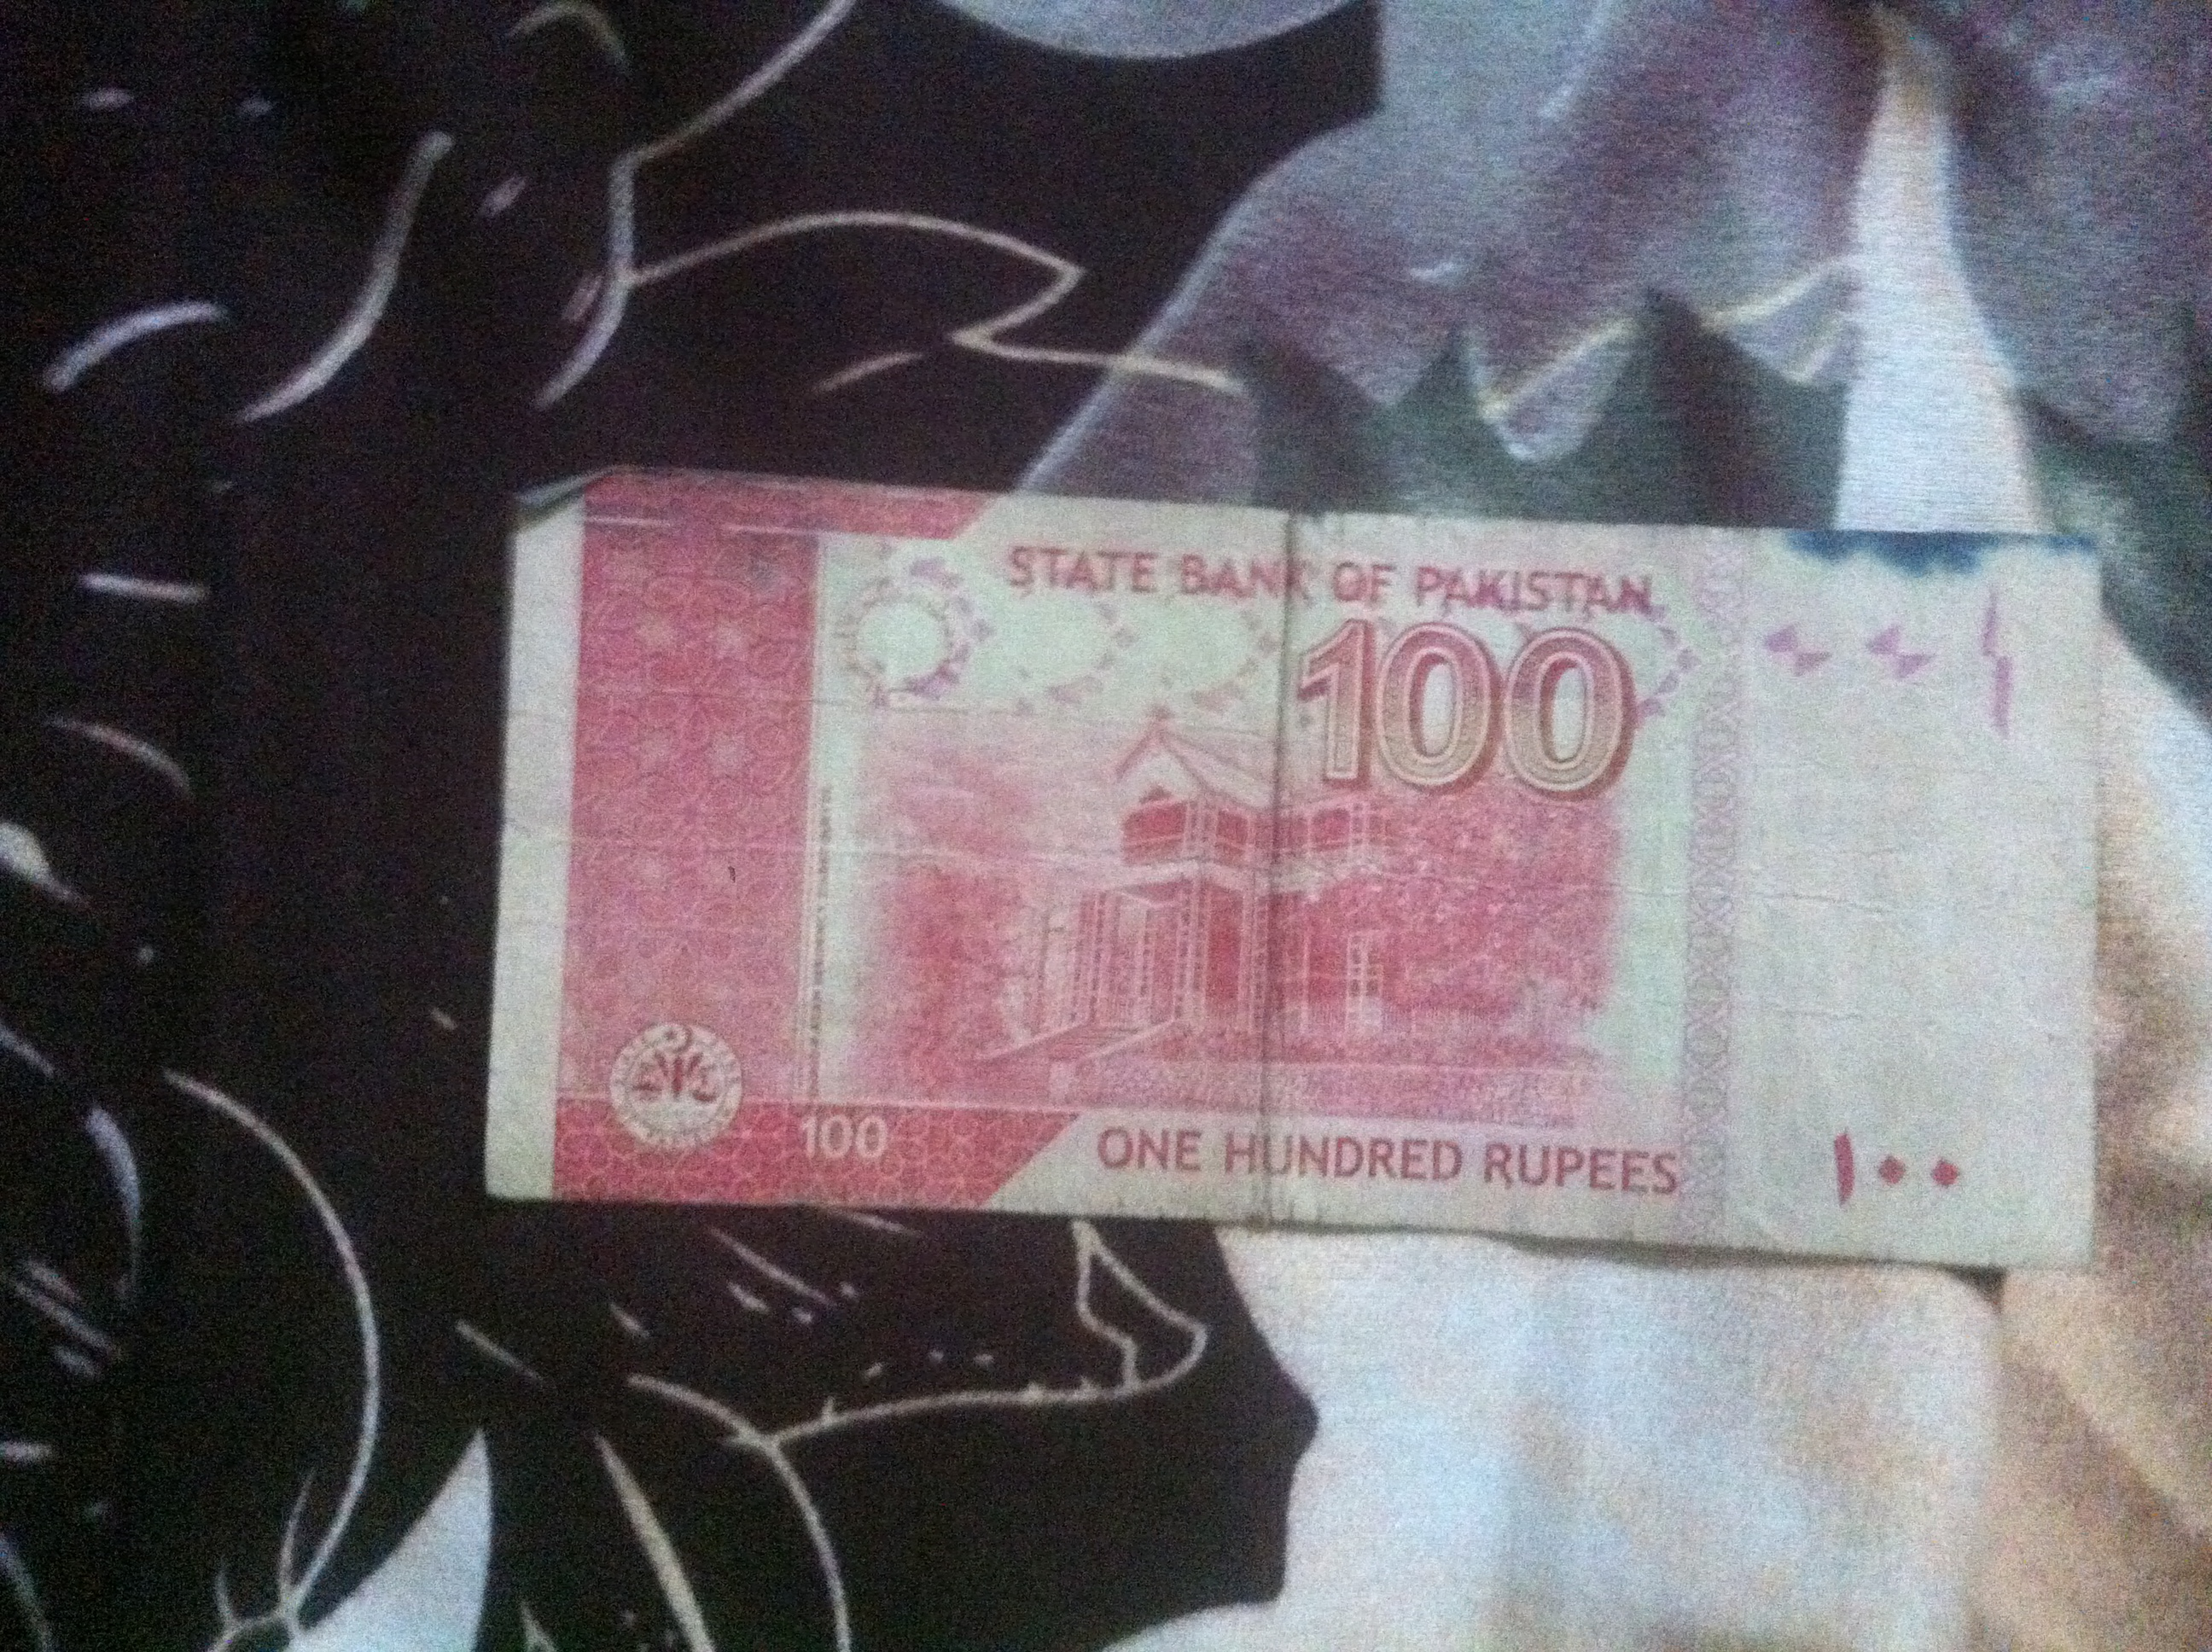100 rupee: (494, 470, 2108, 1262)
